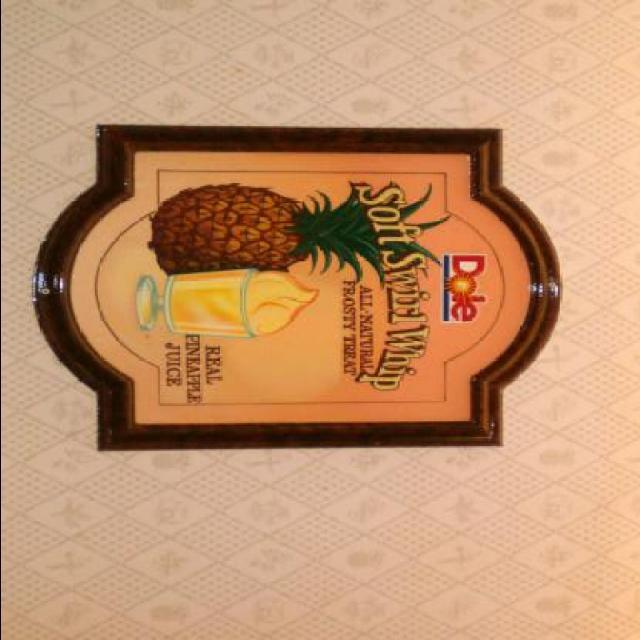Pineapple: (149, 178, 453, 290)
